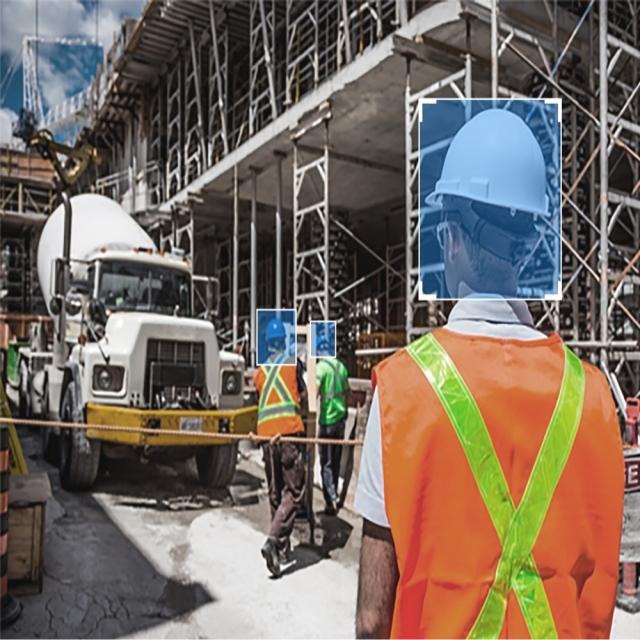Reflective-Jacket: (372, 325, 612, 637), (254, 356, 304, 438), (317, 358, 348, 424)
Safety-Helmet: (425, 106, 554, 220), (264, 318, 286, 339)
